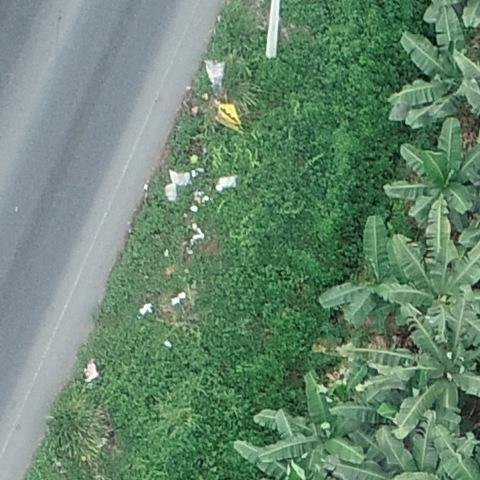Banana-plant: (376, 307, 480, 423), (384, 221, 480, 323), (389, 113, 480, 219), (266, 383, 363, 466)
